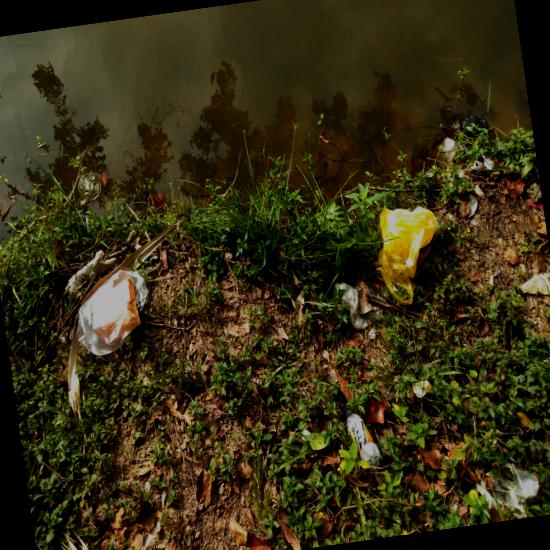Metal bottle cap: (388, 53, 449, 135), (333, 95, 392, 173), (273, 64, 332, 141), (322, 183, 380, 260), (177, 270, 234, 345), (134, 326, 190, 401), (287, 246, 344, 319), (76, 427, 133, 499), (240, 186, 297, 258)
